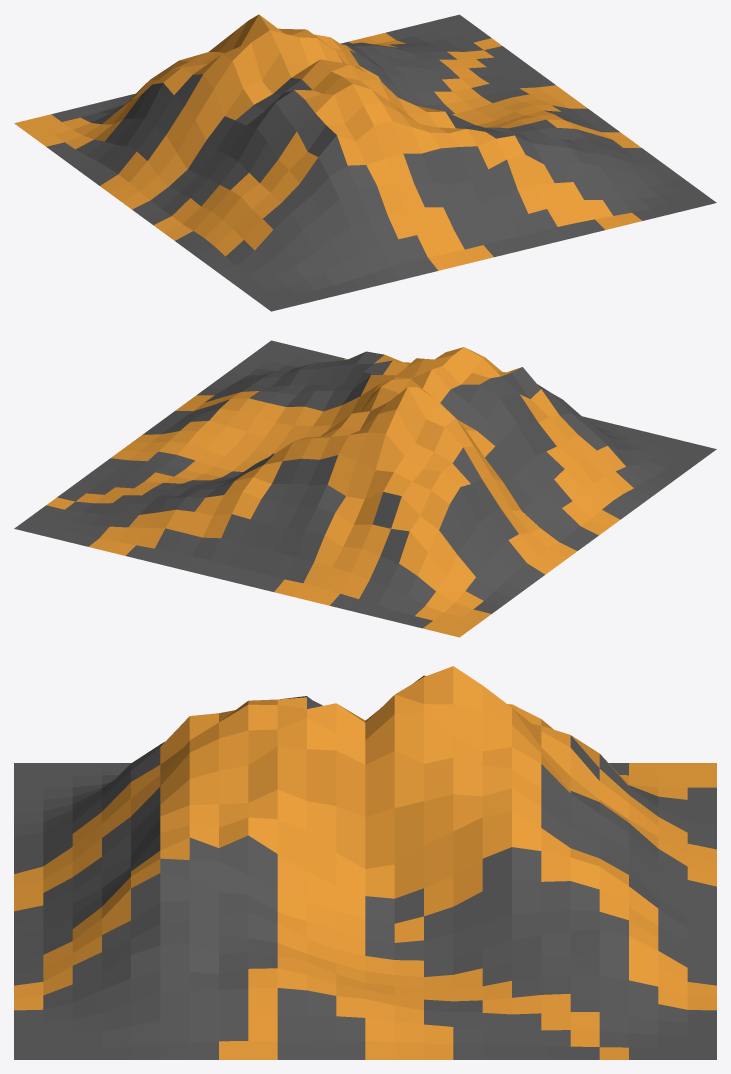
File: volcano01.fbx
3 views of the same model, one above another, from view 1: azimuth 30°, elevation 25°; view 2: azimuth 150°, elevation 25°; view 3: azimuth 270°, elevation 25° (orthographic). The views are drawn at different scales.
Parts seen in each view (by area): view 1: volcano01; view 2: volcano01; view 3: volcano01.
Part boxes in pixels (box(x1,y1,x2,y2)): volcano01: box(14, 14, 716, 311); volcano01: box(14, 340, 716, 637); volcano01: box(14, 666, 716, 1059).
Size of the model in its own units: 614 by 189 by 614.
